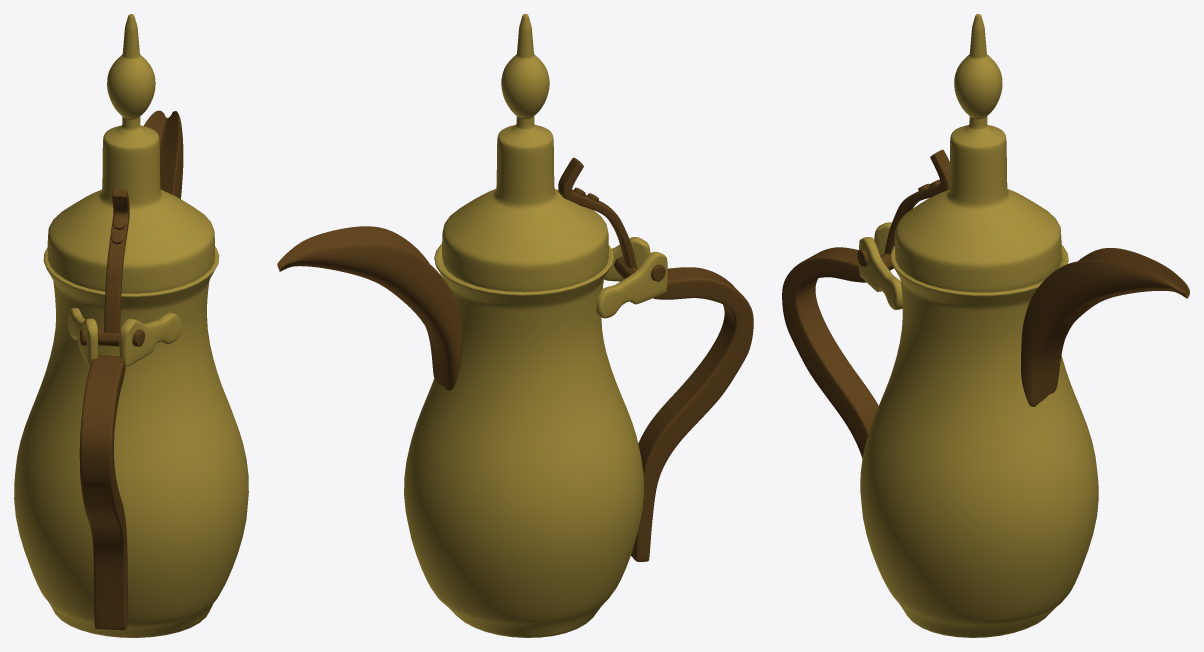
File: dallah_1.0.fbx
The picture shows the model from 3 angles, left to right: view 1: azimuth 30°, elevation 25°; view 2: azimuth 150°, elevation 25°; view 3: azimuth 270°, elevation 25°; orthographic projection.
Parts seen in each view (by area): view 1: mid part, main dalah, H part, Lid Screw H Parts, P part, H R part, h L Part; view 2: mid part, main dalah, H part, P part, h L Part, Lid Screw H Parts, H R part; view 3: mid part, main dalah, P part, H part, H R part, Lid Screw H Parts.
Part boxes in pixels (x1,y1,x2,y2): mid part: (14,246,248,637); main dalah: (47,14,214,293); H part: (79,355,128,630); Lid Screw H Parts: (104,189,129,333); P part: (144,110,183,198); H R part: (119,312,181,366); h L Part: (67,308,97,366); mid part: (404,243,644,637); main dalah: (442,14,608,291); H part: (631,267,753,561); P part: (277,226,462,390); h L Part: (596,251,667,318); Lid Screw H Parts: (558,157,636,268); H R part: (604,237,650,281); mid part: (860,245,1098,637); main dalah: (895,14,1061,292); P part: (1021,248,1189,406); H part: (782,247,878,458); H R part: (859,237,902,309); Lid Screw H Parts: (884,149,949,254).
Size of the model in its own units: 127 by 254 by 158.
